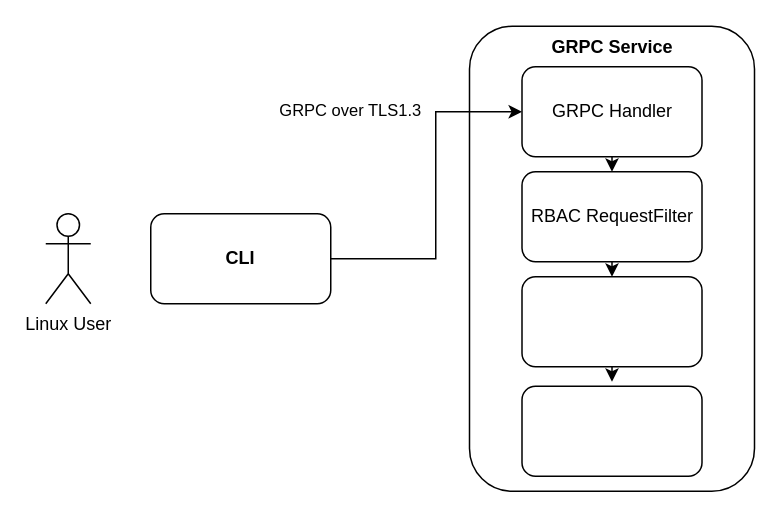
This 782x518 diagram has some shape labels left out. Each missing label, with the box of its shape:
Executor Library: (520, 275, 702, 367)
Isolation Library: (520, 385, 702, 476)
